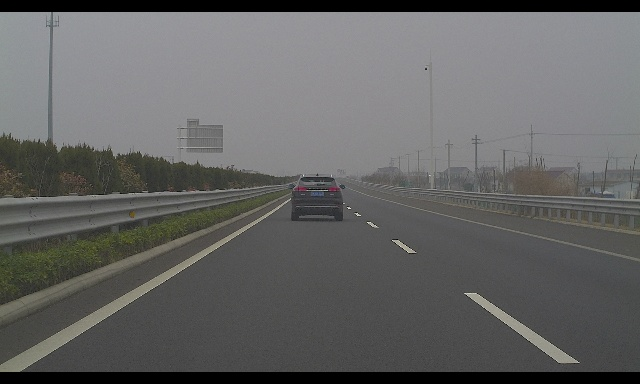car: (289, 173, 345, 221)
